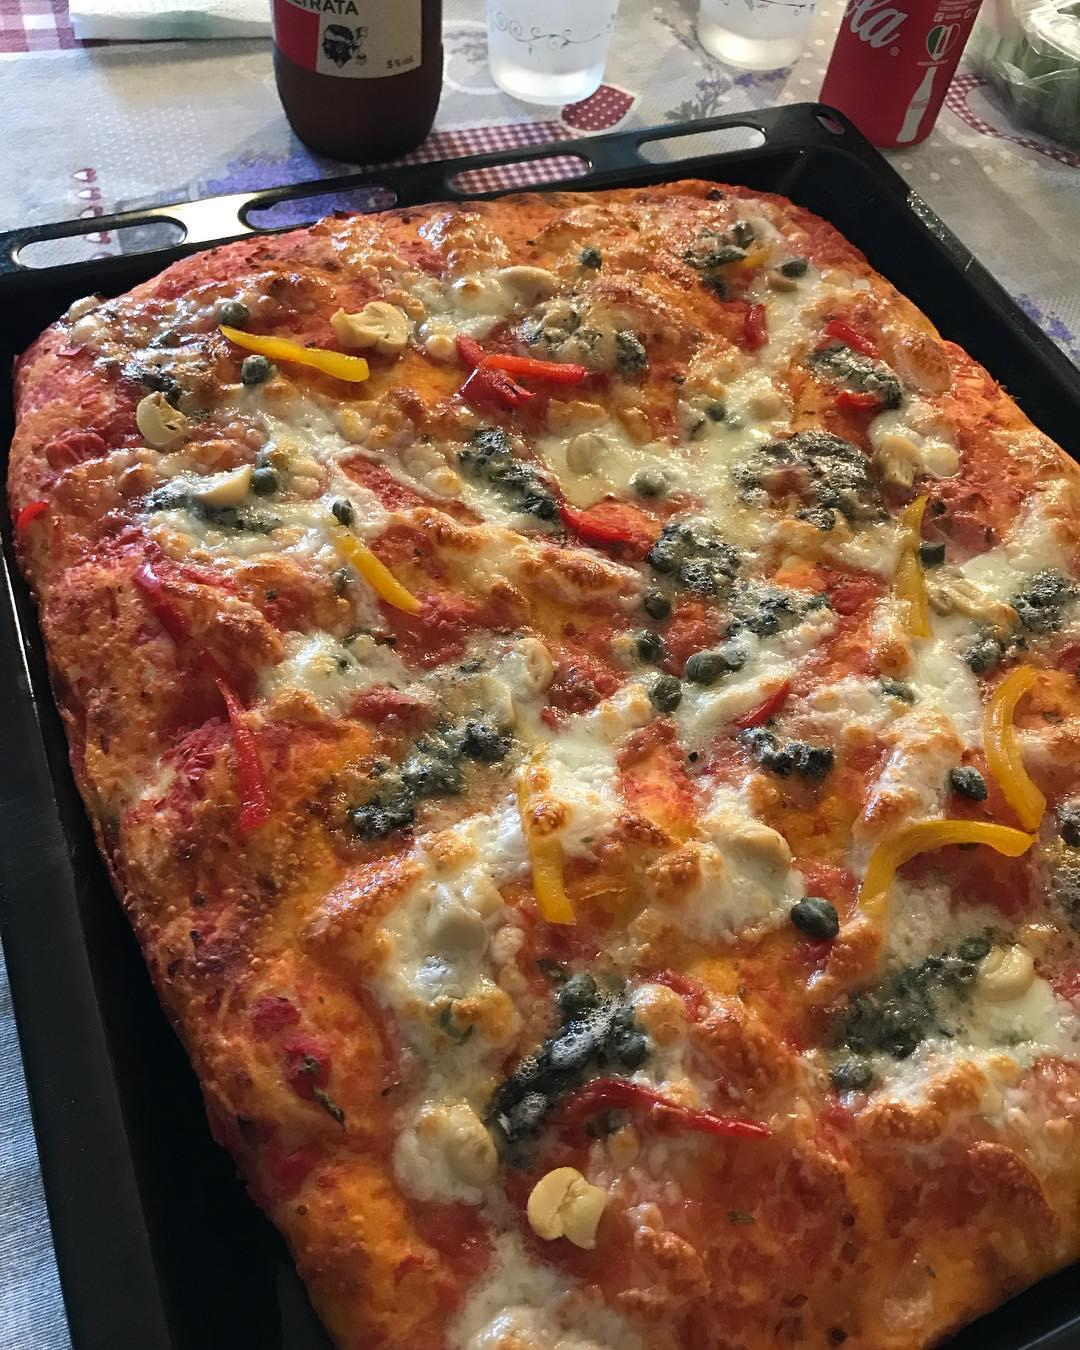Peppers: (857, 785, 1029, 919), (954, 645, 1065, 838), (324, 485, 439, 615), (212, 317, 378, 398), (548, 478, 719, 553), (505, 795, 591, 931), (467, 326, 590, 418), (208, 701, 283, 846)
Pizza: (21, 181, 1080, 1350)
